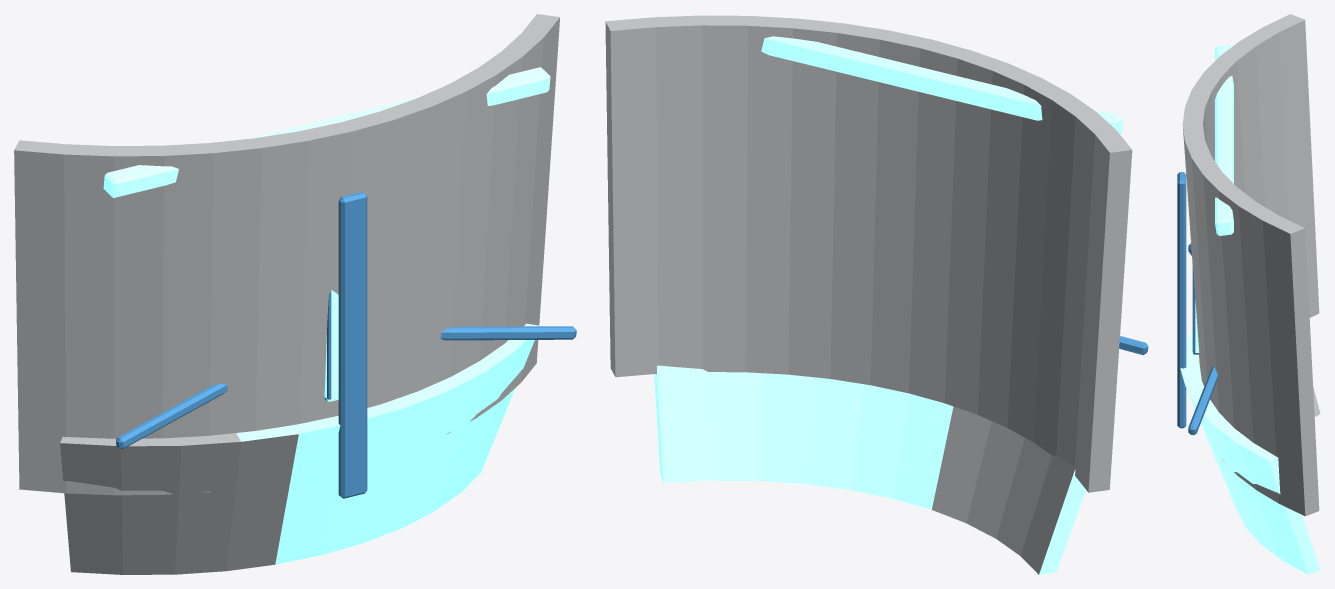
Rendered from chest__sleek.glb.
3 renders of one model, left to right at view 1: azimuth 30°, elevation 25°; view 2: azimuth 150°, elevation 25°; view 3: azimuth 270°, elevation 25°, orthographic. The views are drawn at different scales.
Visible parts, largest first — view 1: armor_chest__sleek_v001; view 2: armor_chest__sleek_v001; view 3: armor_chest__sleek_v001.
Part boxes in pixels (left/top/right/bottom): armor_chest__sleek_v001: left=14, top=14, right=576, bottom=574; armor_chest__sleek_v001: left=605, top=14, right=1148, bottom=574; armor_chest__sleek_v001: left=1177, top=14, right=1320, bottom=574.
Size of the model in its own units: 0.589 by 0.46 by 0.162.
